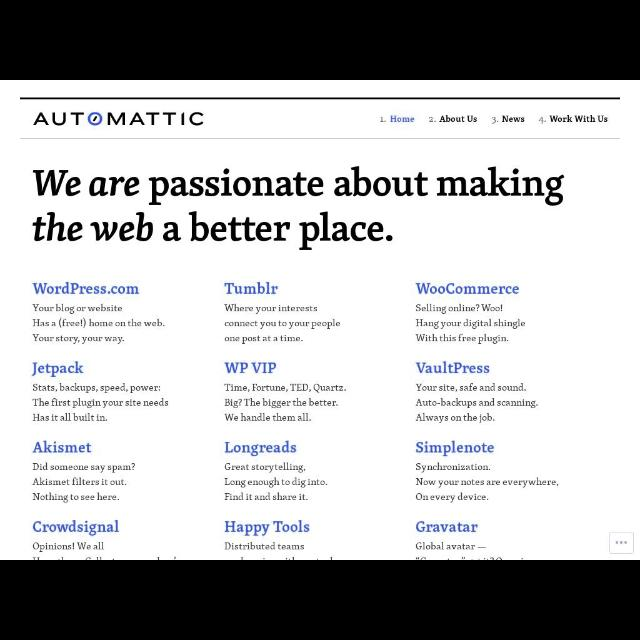image: (35, 110, 205, 128)
text: (34, 167, 566, 246), (415, 463, 561, 503), (32, 304, 166, 344), (414, 381, 540, 423), (34, 383, 168, 422), (223, 381, 347, 423), (222, 303, 340, 345), (414, 302, 526, 346), (224, 460, 328, 502), (34, 462, 136, 501), (33, 282, 141, 300), (416, 282, 520, 296), (224, 520, 310, 536), (416, 360, 490, 376), (416, 442, 496, 456), (33, 522, 119, 534), (223, 280, 279, 298), (416, 520, 478, 534), (224, 442, 296, 454), (225, 360, 277, 376), (33, 362, 83, 378), (34, 441, 92, 454), (548, 114, 608, 124), (438, 115, 478, 123), (500, 115, 526, 125), (390, 115, 414, 123), (538, 117, 546, 125), (492, 116, 498, 124), (429, 116, 435, 122), (380, 116, 384, 122)
toolbar: (5, 100, 639, 138)
